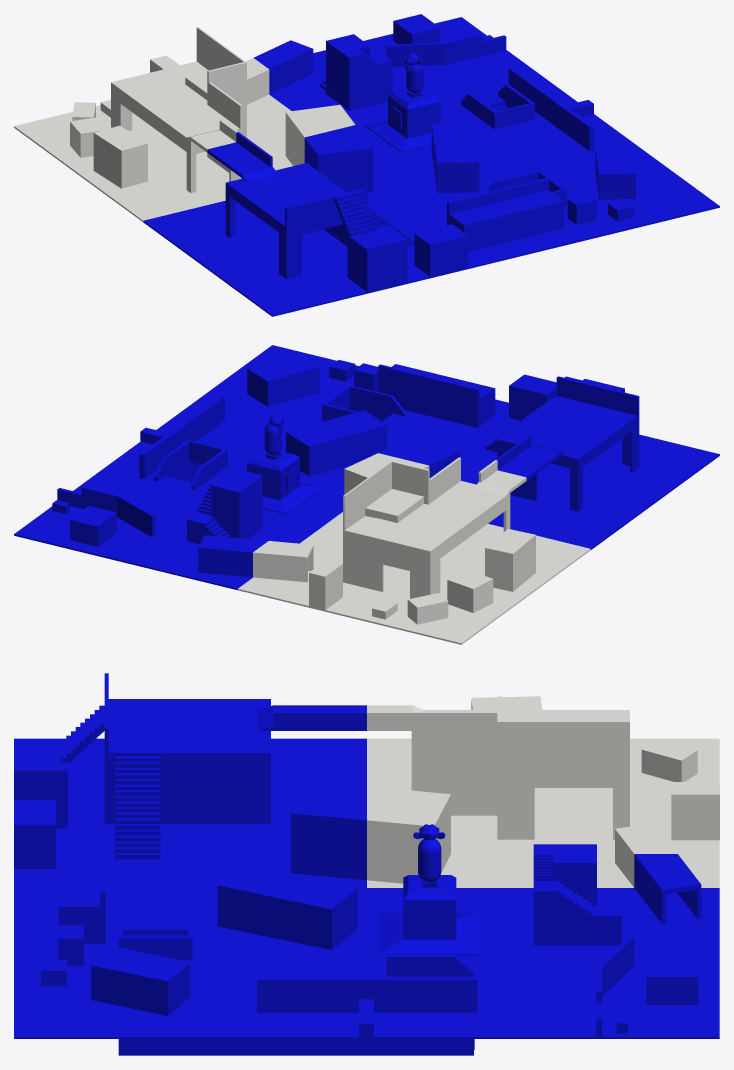
Rendered from map1.fbx.
The picture shows the model from 3 angles, top to bottom: view 1: azimuth 30°, elevation 25°; view 2: azimuth 150°, elevation 25°; view 3: azimuth 270°, elevation 25°; orthographic projection. The views are drawn at different scales.
Parts seen in each view (by area): view 1: Area1.003, Area1.002, Area1, Куб.008, Area1.001, Куб.009, Куб.012, Куб.028, Куб.005, Куб.006, Куб.013, Куб.021 (+12 smaller); view 2: Куб.008, Area1.002, Area1.001, Area1, Area1.003, Куб.009, Куб.012, Куб.021, Куб.007, Куб.022, Куб.005, Куб.006 (+12 smaller); view 3: Area1.001, Area1.003, Куб.008, Area1.002, Area1, Куб.009, Куб.028, Куб.022, Куб.021, Куб.003, Куб.006, Куб.024 (+17 smaller).
Boxes of the visible parts, <box> form: Area1.003: <box>373,113,719,261</box>; Area1.002: <box>143,171,496,316</box>; Area1: <box>14,94,292,221</box>; Куб.008: <box>111,27,246,192</box>; Area1.001: <box>269,17,577,164</box>; Куб.009: <box>225,163,367,279</box>; Куб.012: <box>447,177,564,251</box>; Куб.028: <box>285,104,372,192</box>; Куб.005: <box>326,34,392,110</box>; Куб.006: <box>365,53,444,152</box>; Куб.013: <box>347,225,407,291</box>; Куб.021: <box>431,122,479,193</box>; Куб.008: <box>343,457,510,598</box>; Area1.002: <box>437,399,719,549</box>; Area1.001: <box>14,441,344,590</box>; Area1: <box>237,512,590,644</box>; Area1.003: <box>156,345,495,488</box>; Куб.009: <box>497,376,639,511</box>; Куб.012: <box>378,364,495,427</box>; Куб.021: <box>286,410,387,476</box>; Куб.007: <box>198,535,313,582</box>; Куб.022: <box>154,385,406,490</box>; Куб.005: <box>187,471,262,544</box>; Куб.006: <box>247,414,322,514</box>; Area1.001: <box>367,888,719,1038</box>; Area1.003: <box>14,888,366,1038</box>; Куб.008: <box>411,696,629,839</box>; Area1.002: <box>14,738,366,887</box>; Area1: <box>367,738,719,887</box>; Куб.009: <box>104,673,270,824</box>; Куб.028: <box>291,781,450,883</box>; Куб.022: <box>118,909,473,1055</box>; Куб.021: <box>217,863,357,950</box>; Куб.003: <box>257,976,476,1012</box>; Куб.006: <box>380,824,478,955</box>; Куб.024: <box>91,946,190,1015</box>.
Bounding box in the file's own units: 6003 × 1592 × 6002.
